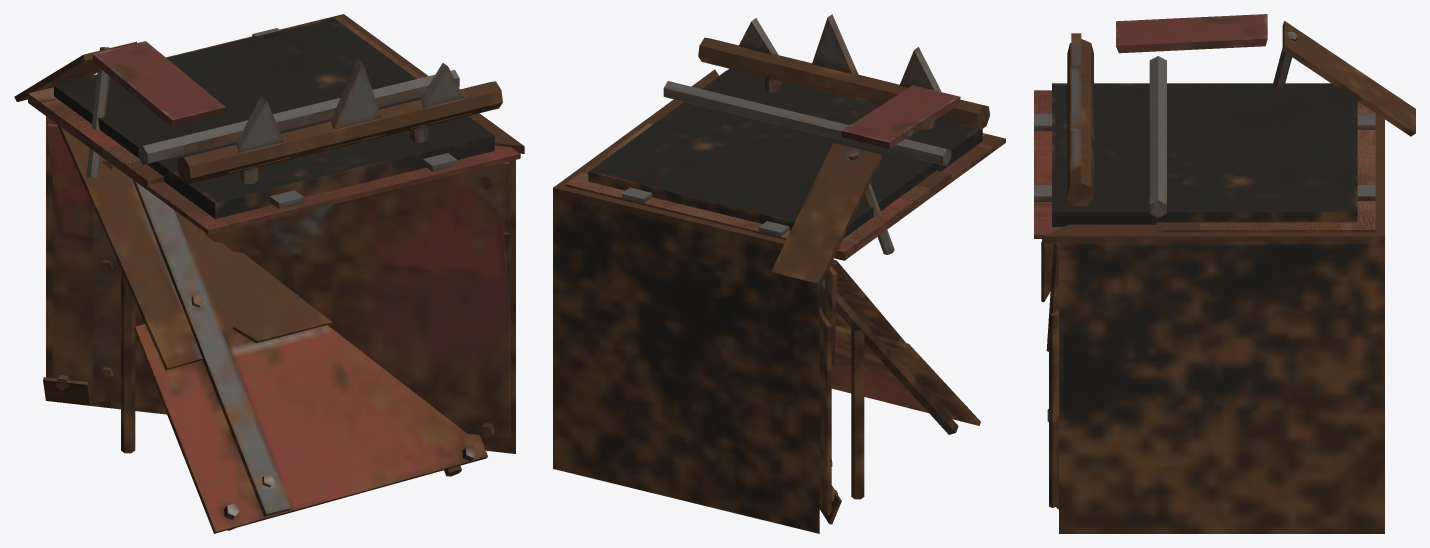
The model's file is R4H_HullKit.glb.
3 views of the same model, side by side, from view 1: azimuth 30°, elevation 25°; view 2: azimuth 150°, elevation 25°; view 3: azimuth 270°, elevation 25° (orthographic). The views are drawn at different scales.
Parts seen in each view (by area): view 1: ramp, cheek, gasket, nose_0, lip, nose_3, nose_2, nose_1, plate_09_2, plate_08_1, plate_08_0, plate_02_0 (+8 smaller); view 2: cheek, gasket, lip, ramp, nose_3, nose_0, nose_2, plate_06_0, plate_03_1, plate_04_2, plate_05_2, plate_05_1 (+6 smaller); view 3: cheek, gasket, lip, nose_3, plate_10_0, nose_2, plate_01_0, plate_04_2, plate_03_0, nose_0, plate_14_0, plate_05_0 (+6 smaller).
Boxes of the visible parts, <box> form: ramp: <box>57,124,487,533</box>; cheek: <box>43,14,524,453</box>; gasket: <box>54,17,494,218</box>; nose_0: <box>181,62,482,183</box>; lip: <box>14,41,225,177</box>; nose_3: <box>146,58,502,183</box>; nose_2: <box>138,95,482,184</box>; nose_1: <box>183,78,502,178</box>; plate_09_2: <box>221,31,519,229</box>; plate_08_1: <box>227,155,493,227</box>; plate_08_0: <box>222,153,497,228</box>; plate_02_0: <box>39,98,199,222</box>; cheek: <box>553,69,841,533</box>; gasket: <box>588,68,982,238</box>; lip: <box>771,85,960,284</box>; ramp: <box>819,259,980,499</box>; nose_3: <box>663,14,987,165</box>; nose_0: <box>681,18,963,156</box>; nose_2: <box>683,50,989,165</box>; plate_06_0: <box>586,170,951,256</box>; plate_03_1: <box>846,152,991,242</box>; plate_04_2: <box>594,185,790,238</box>; plate_05_2: <box>565,170,789,238</box>; plate_05_1: <box>565,136,787,239</box>; cheek: <box>1041,113,1384,533</box>; gasket: <box>1052,83,1357,226</box>; lip: <box>1116,14,1415,136</box>; nose_3: <box>1067,33,1166,204</box>; plate_10_0: <box>1034,90,1051,221</box>; nose_2: <box>1067,39,1166,195</box>; plate_01_0: <box>1156,222,1341,232</box>; plate_04_2: <box>1357,102,1375,215</box>; plate_03_0: <box>1156,222,1339,229</box>; nose_0: <box>1069,48,1158,175</box>; plate_14_0: <box>1034,99,1375,223</box>; plate_05_0: <box>1156,114,1375,229</box>.
Bounding box in the file's own units: 0.565 × 0.7361 × 0.6149.
Materials: 1 (1 with a texture image).
